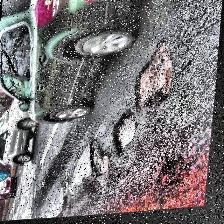pothole: (132, 40, 180, 114), (113, 113, 140, 157), (88, 139, 114, 179)
